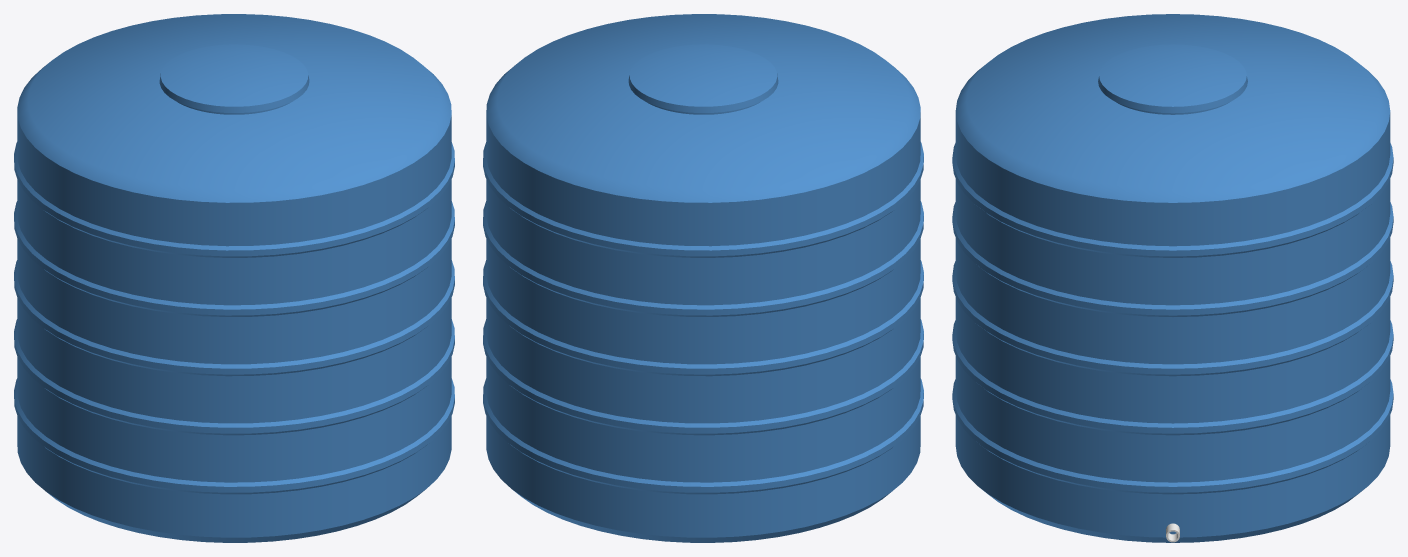
The model's file is HID-RES-004_lod1.glb.
3 renders of one model, left to right at view 1: azimuth 30°, elevation 25°; view 2: azimuth 150°, elevation 25°; view 3: azimuth 270°, elevation 25°, orthographic.
Visible parts, largest first — view 1: HID-RES-004_corpo, HID-RES-004_tampa; view 2: HID-RES-004_corpo, HID-RES-004_tampa; view 3: HID-RES-004_corpo, HID-RES-004_tampa.
Part boxes in pixels (<box>): HID-RES-004_corpo: <box>14,14,454,542</box>; HID-RES-004_tampa: <box>159,44,309,112</box>; HID-RES-004_corpo: <box>483,14,923,542</box>; HID-RES-004_tampa: <box>628,44,778,112</box>; HID-RES-004_corpo: <box>952,14,1393,542</box>; HID-RES-004_tampa: <box>1098,44,1247,113</box>.
Bounding box in the file's own units: 2.11 × 1.96 × 2.03.
